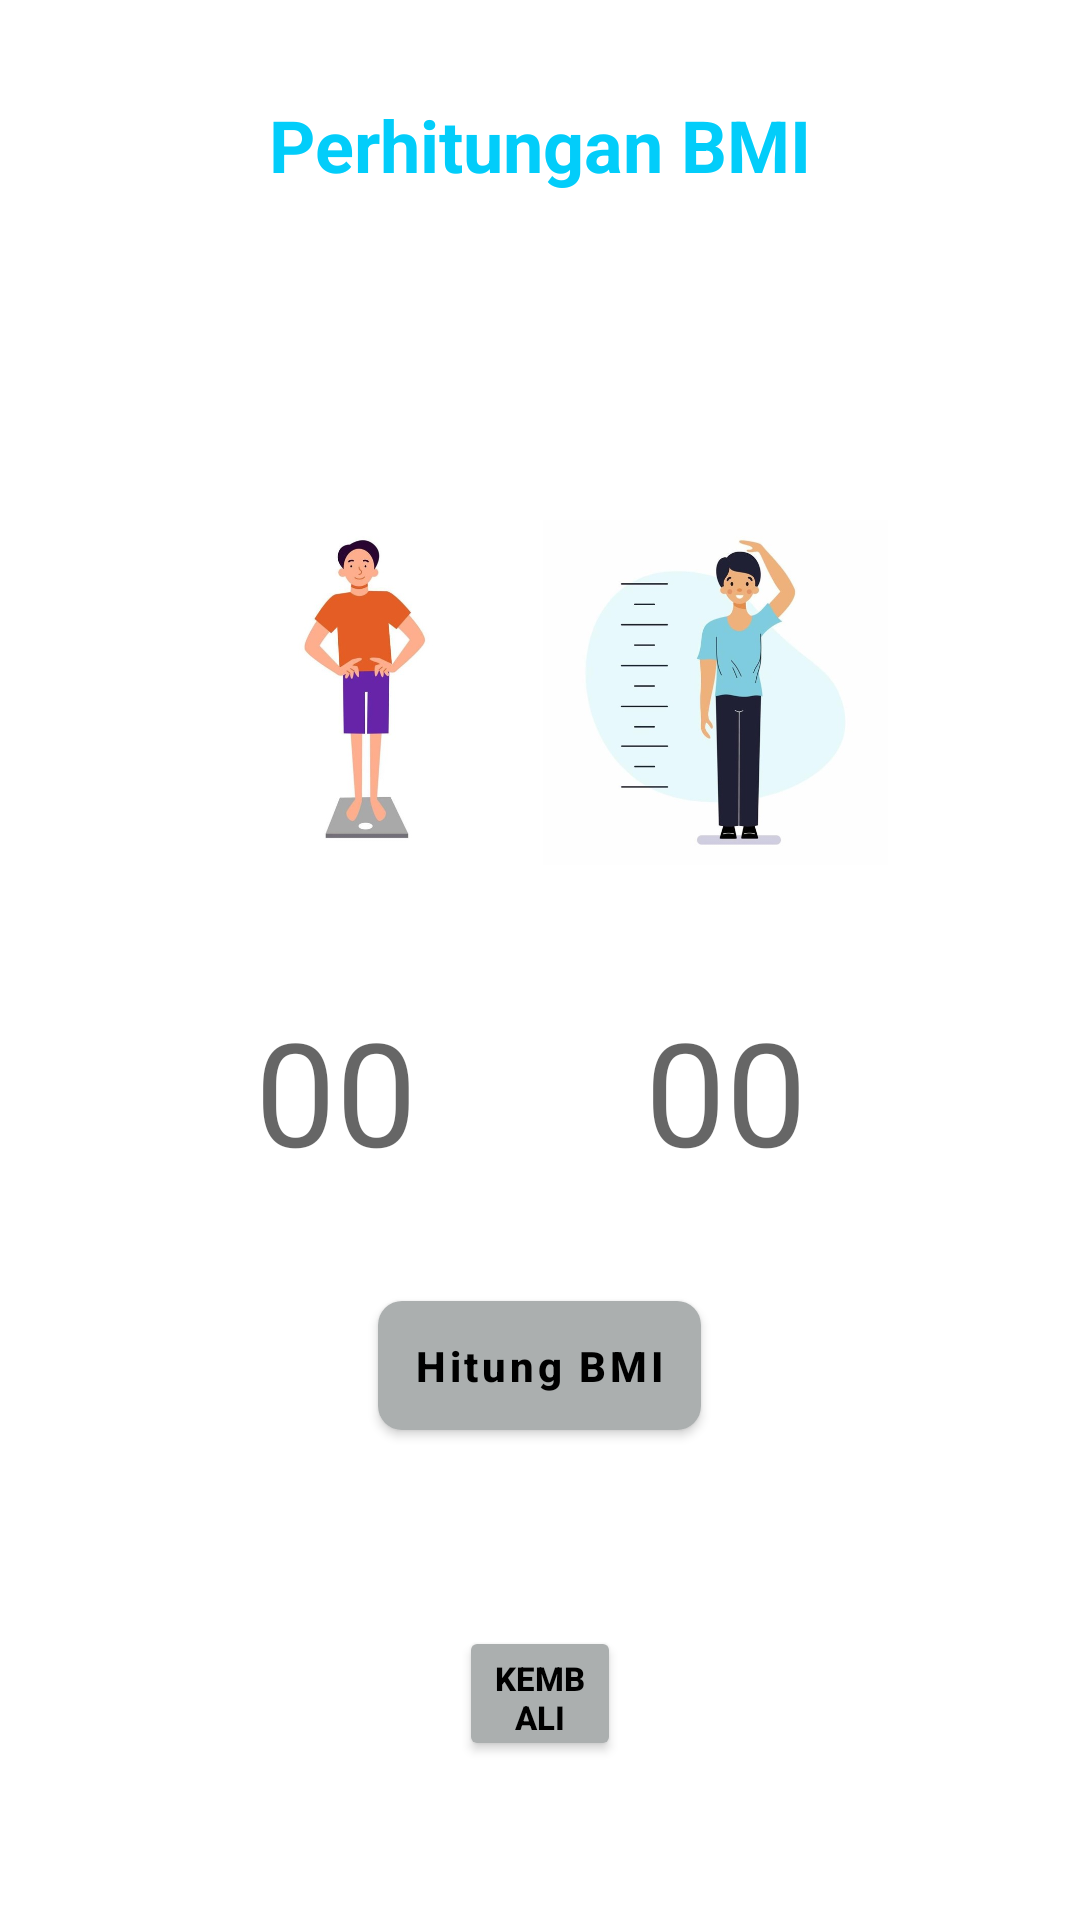

Where to tap for icons on this 1080px x 1920px app screen, as point (x, y):
berat badan: point (364, 689)
tinggi badan: point (715, 692)
